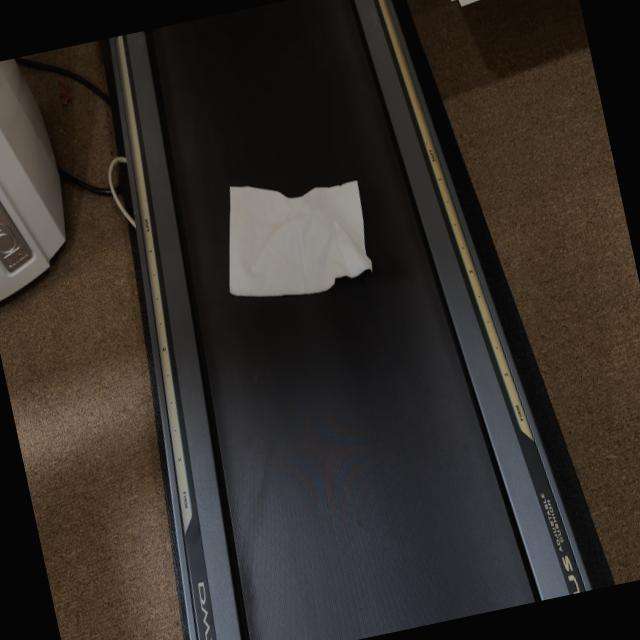Recycle: (208, 160, 384, 316)
